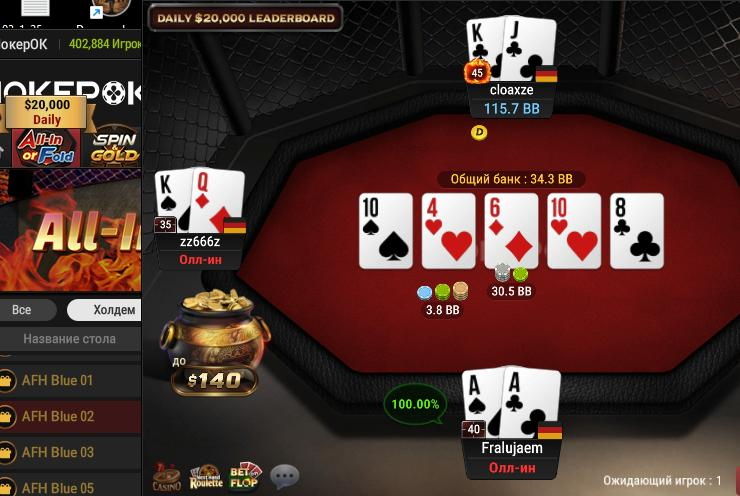10h: (549, 194, 601, 267)
10s: (359, 194, 414, 270)
4h: (423, 194, 476, 269)
6d: (485, 194, 538, 268)
8c: (610, 194, 663, 268)
Ac: (503, 366, 559, 439)
As: (461, 369, 503, 439)
Jc: (504, 16, 555, 79)
Kc: (466, 18, 503, 80)
Ks: (154, 171, 191, 233)
Qd: (193, 168, 242, 234)
